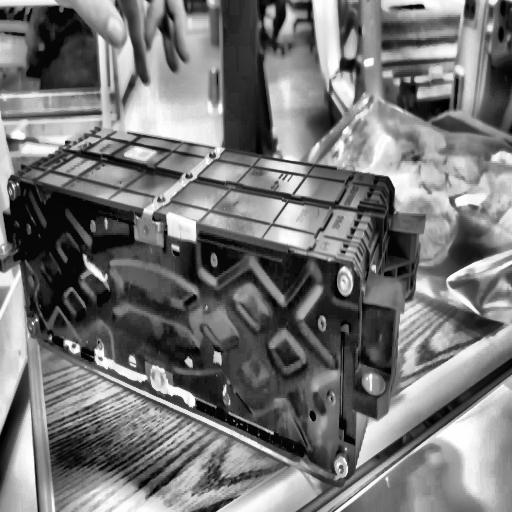battery_module: (4, 119, 431, 483)
